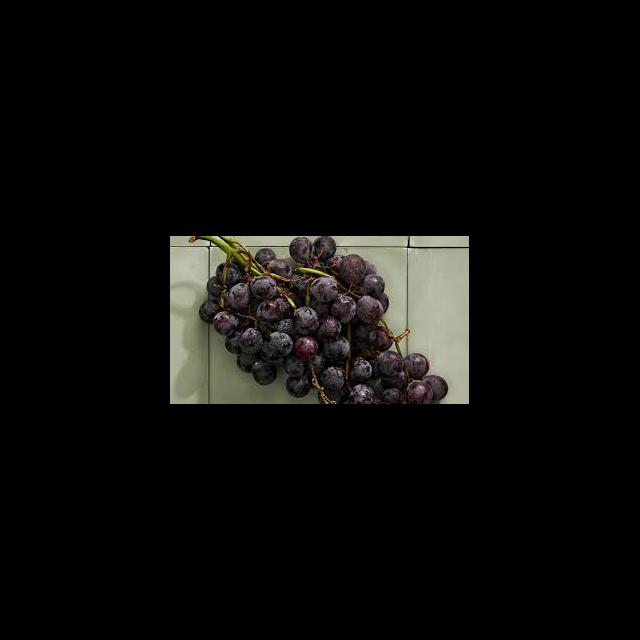grape: (196, 236, 448, 403)
